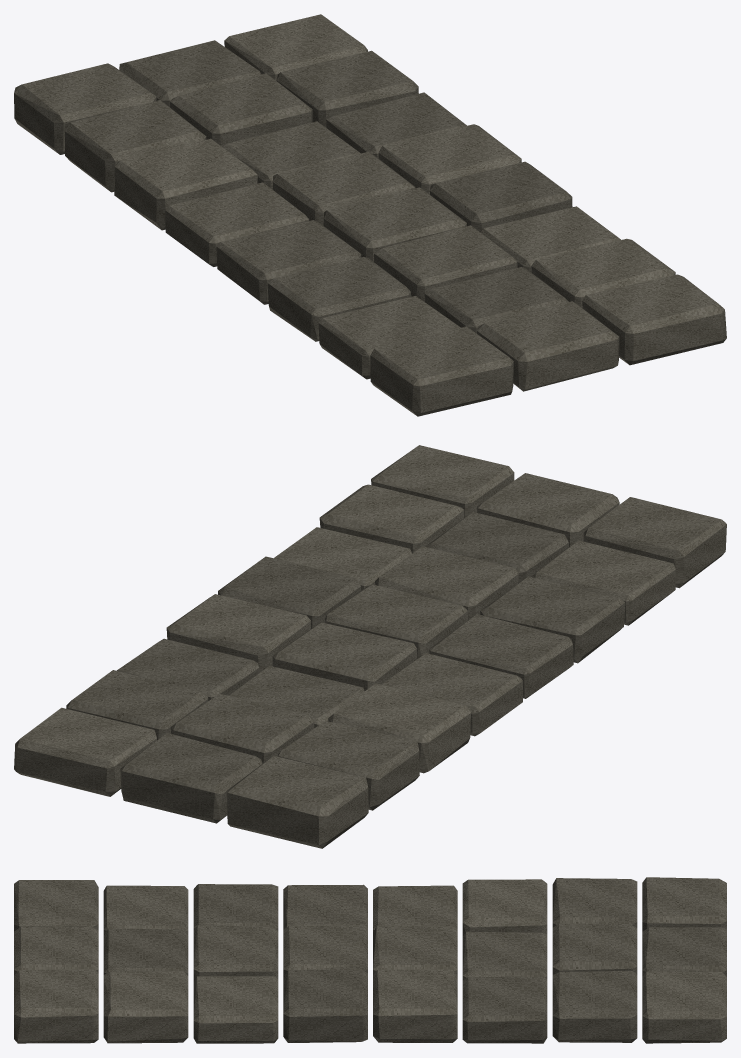
File: env_ruin_surfaces_12_cobbled_strip.glb
3 renders of one model, top to bottom at view 1: azimuth 30°, elevation 25°; view 2: azimuth 150°, elevation 25°; view 3: azimuth 270°, elevation 25°, orthographic. The views are drawn at different scales.
Size of the model in its own units: 0.886 by 0.1086 by 1.99.
Materials: 1 (1 with a texture image).
